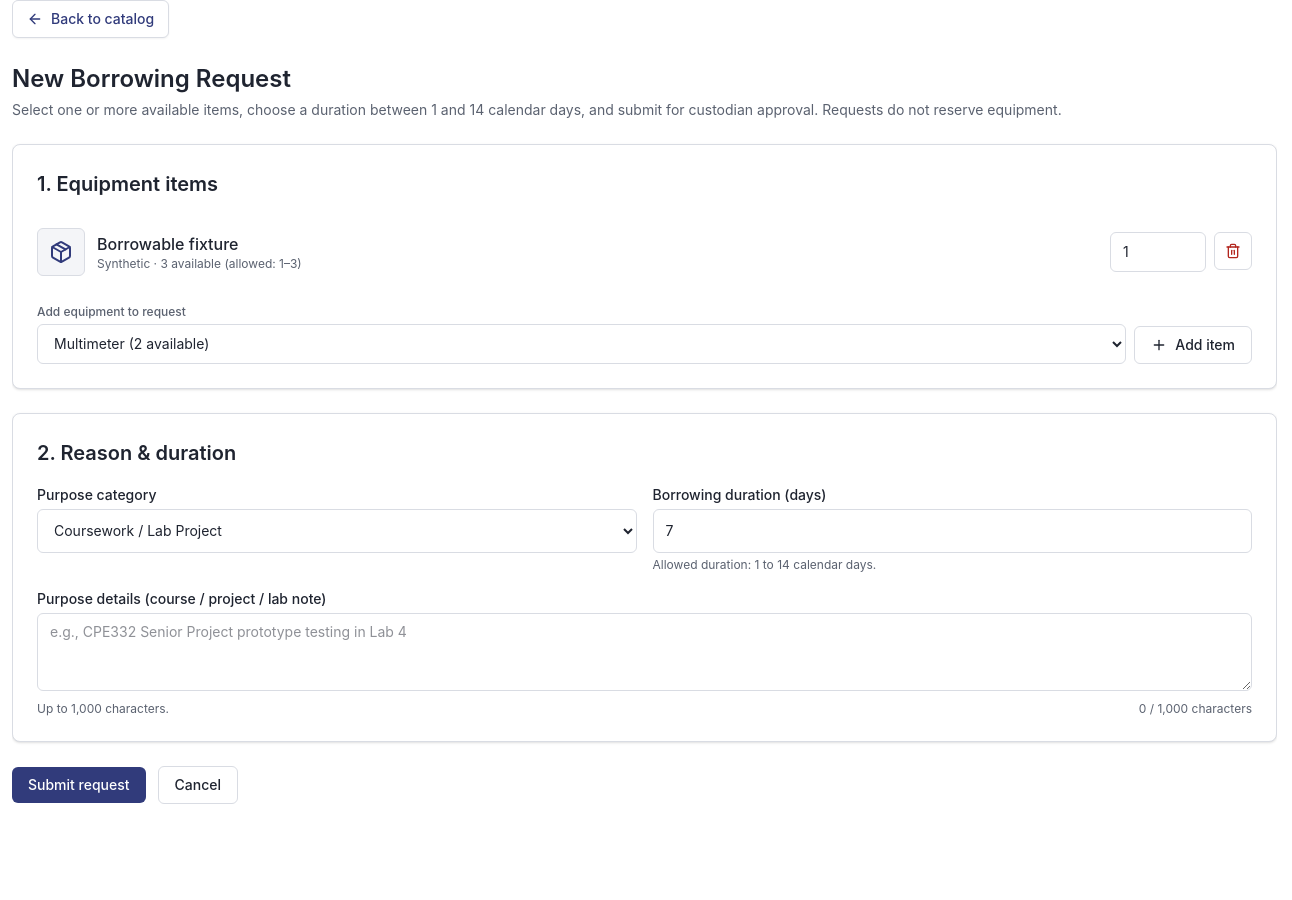
Test: F-04 / F-11 request creation & management UI › rejects invalid quantity -1 cleanly (UAT-07 hint)
The image size is (1292, 900).
Replace the text in the 1st number field with "-1" at (1158, 252), box [1110,232,1206,272]
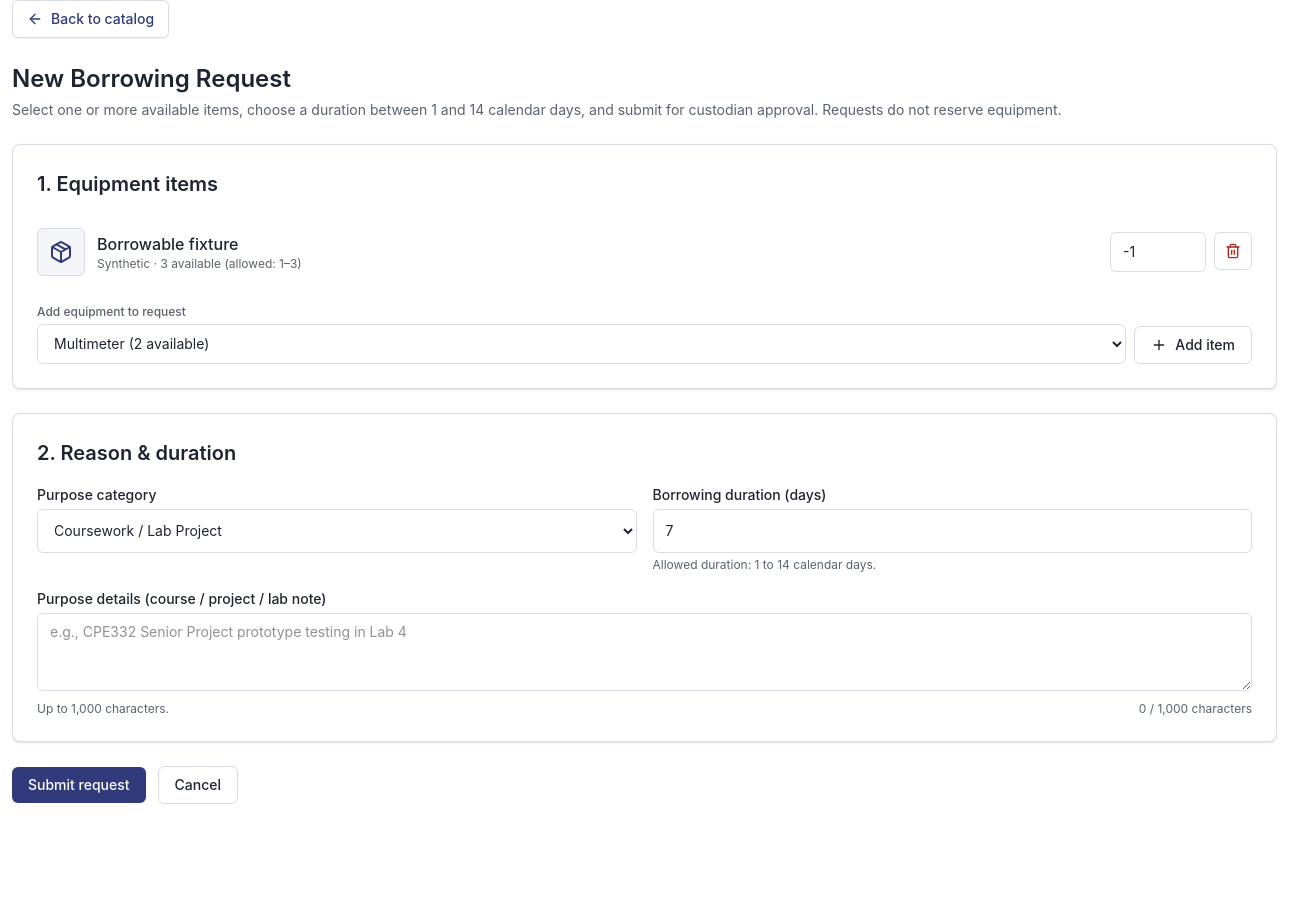
Click the button "Submit request" at (79, 785), box [12,767,146,803]
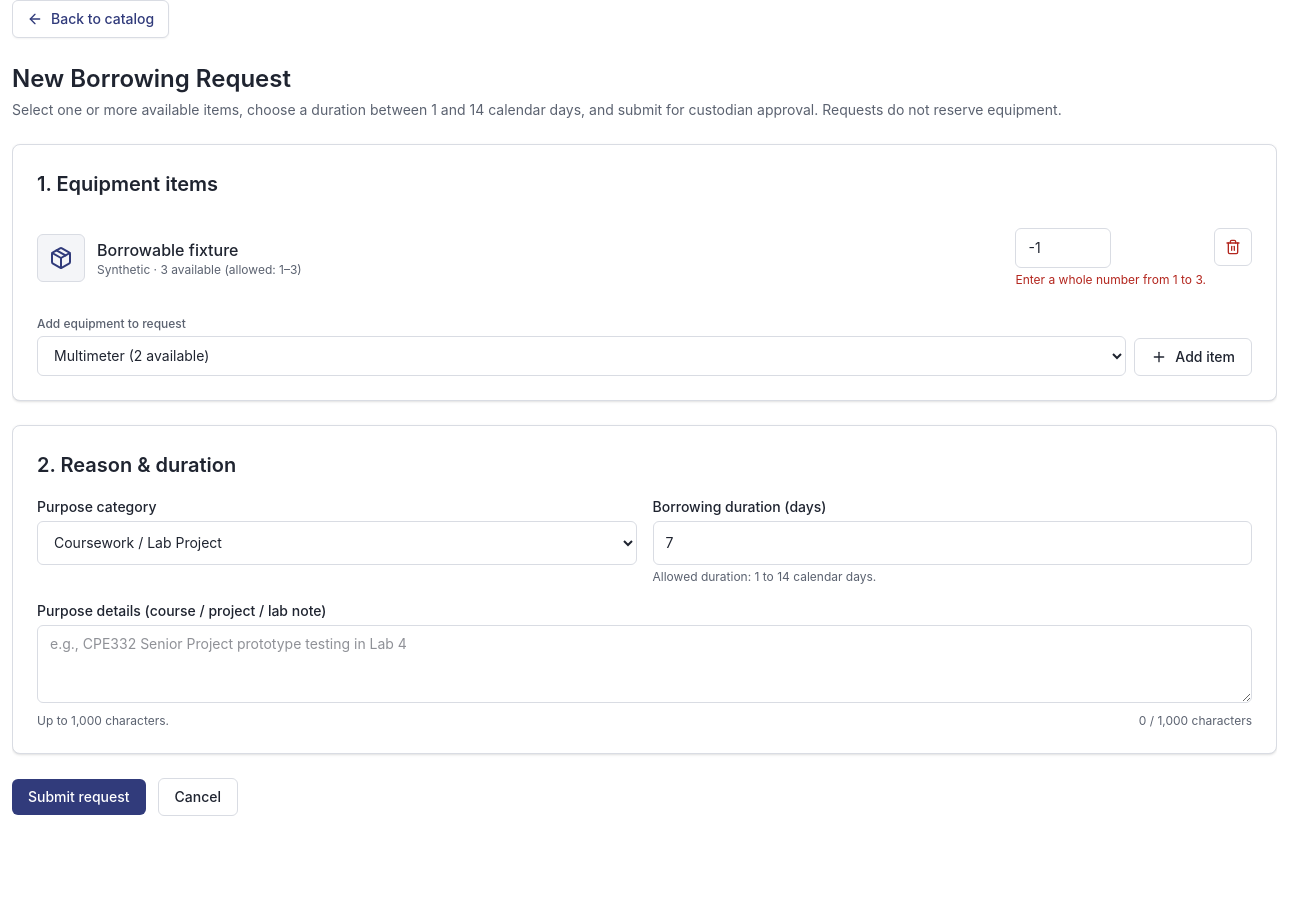
Result: the text "Enter a whole number from 1 to 3." is shown at [1016,272,1206,288]
